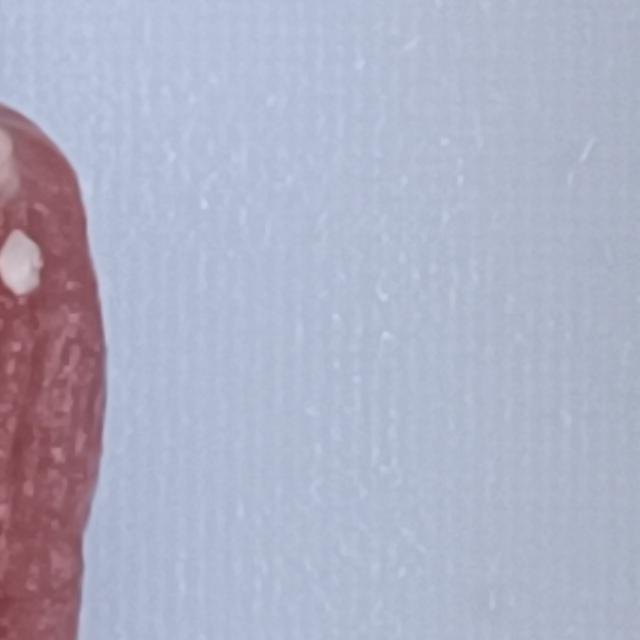pork: (0, 0, 162, 640)
